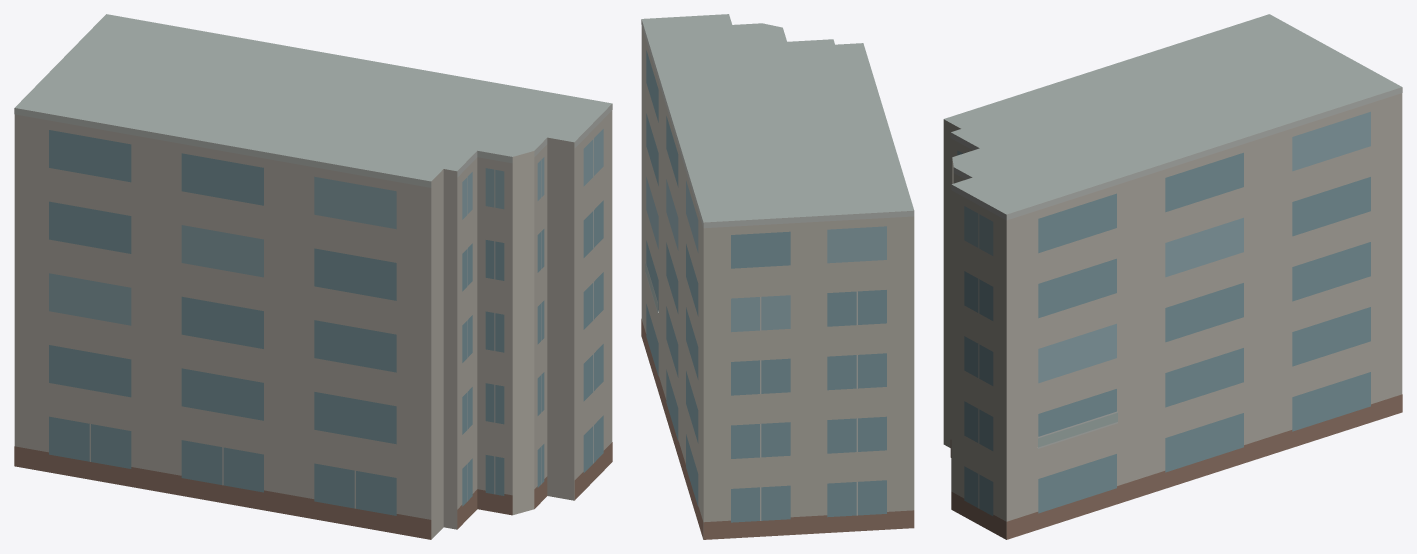
File: survey-upis-32953601.glb
3 views of the same model, side by side, from view 1: azimuth 30°, elevation 25°; view 2: azimuth 150°, elevation 25°; view 3: azimuth 270°, elevation 25° (orthographic). The views are drawn at different scales.
Parts seen in each view (by area): view 1: survey-upis-32953601.tmp; view 2: survey-upis-32953601.tmp; view 3: survey-upis-32953601.tmp.
Boxes of the visible parts, x1,y1,x2,y2 form: survey-upis-32953601.tmp: [14, 14, 612, 539]; survey-upis-32953601.tmp: [641, 14, 914, 539]; survey-upis-32953601.tmp: [943, 14, 1402, 539].
Bounding box in the file's own units: 17.87 × 13.5 × 17.27.
